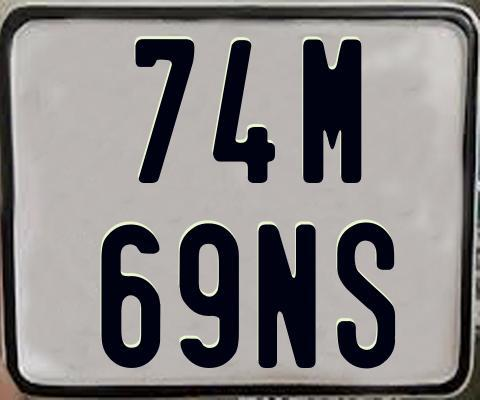4: (213, 38, 279, 186)
6: (100, 223, 163, 372)
7: (134, 39, 199, 184)
9: (179, 223, 241, 373)
M: (303, 37, 362, 182)
N: (258, 221, 321, 371)
S: (334, 221, 394, 374)
